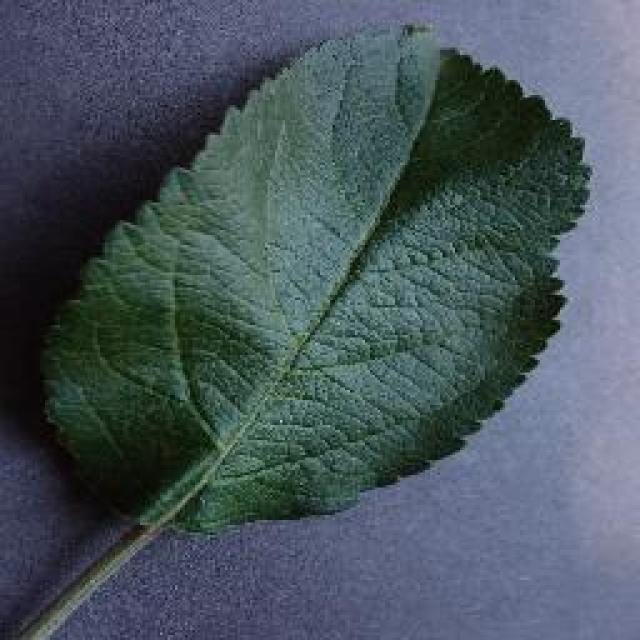apple healthy: (35, 18, 593, 538)
